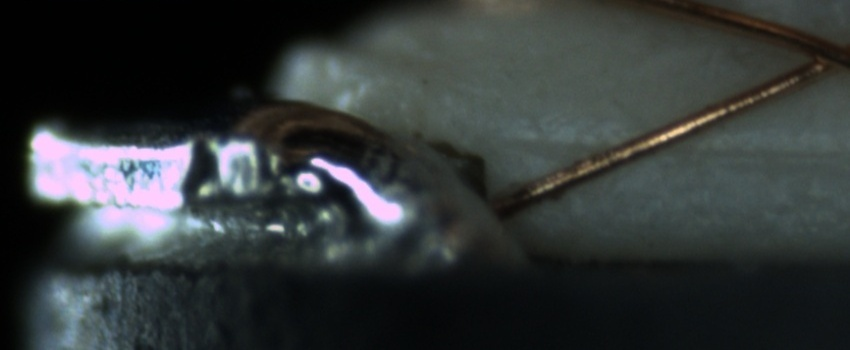CL: (778, 26, 847, 87)
DL: (515, 116, 850, 181)
